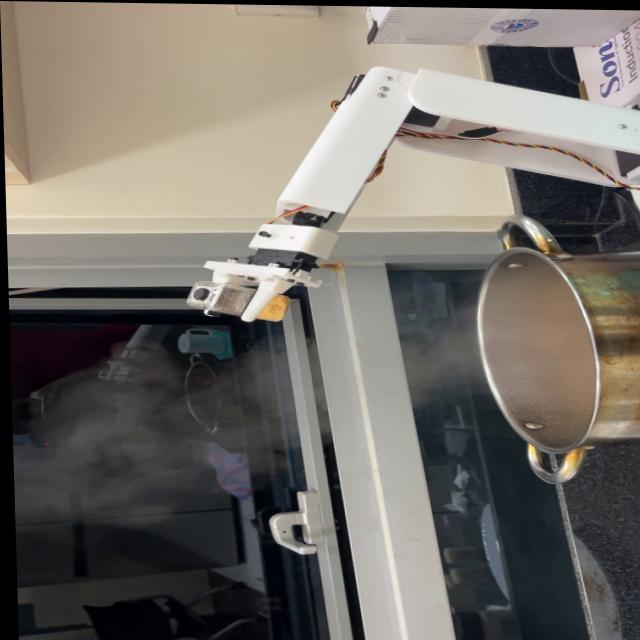cooking_pot: (475, 212, 640, 479)
garlic_powder: (254, 292, 298, 320)
